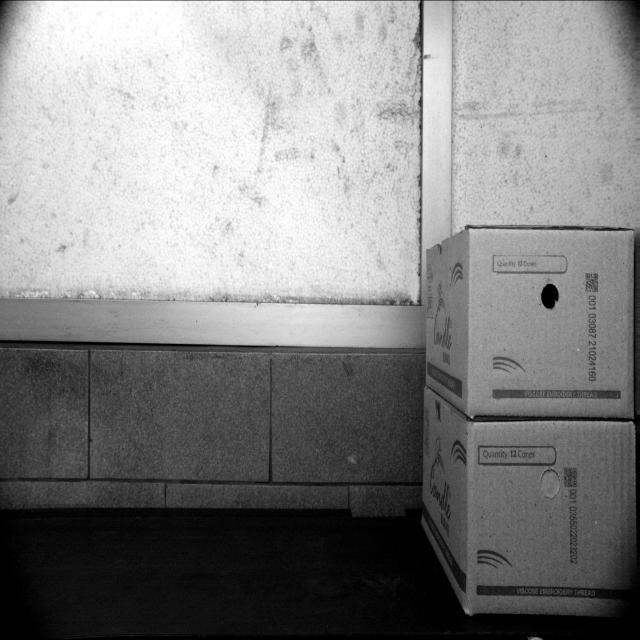box: (462, 223, 638, 424), (466, 432, 640, 623)
